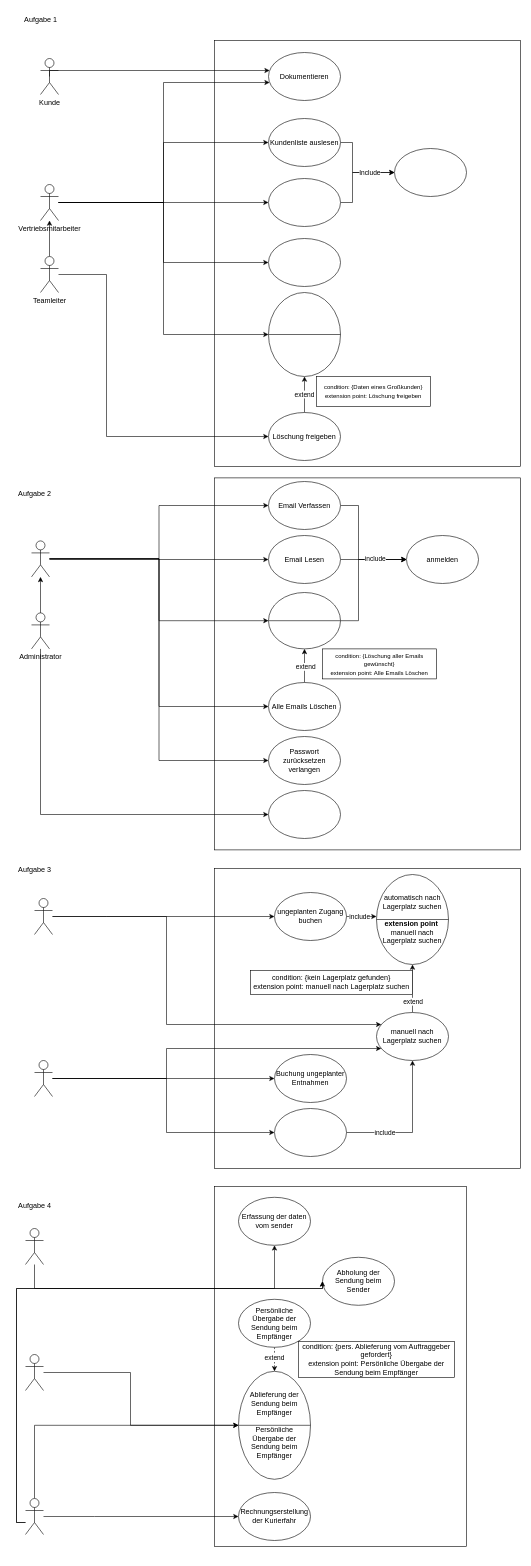
Some shapes in this 531 by 1566 pixel diagram are drawn without their labels. Here are the shapes that lost their labels. From the top down, the centre of each, then its label:
At [430,172]: "Kundendaten Laden".
At [304,202]: "Daten eines Kunden auslesen".
At [304,262]: "Auswertungen eines Kundenstammes vornehmen".
At [304,334]: "Kundendaten Löschen extension point Löschung freigeben".
At [40,558]: "Benutzer".
At [304,620]: "Email Löschen extension point Alle Emails löschen".
At [304,814]: "Passwort eines Users Zurücksetzen".
At [43,916]: "Mitarbeiter der Warenanahme".
At [43,1078]: "Materialverwalter".
At [310,1132]: "umlagern von Waren".
At [34,1246]: "Sender".
At [34,1372]: "Empfänger".
At [34,1516]: "Kurierdienst".
